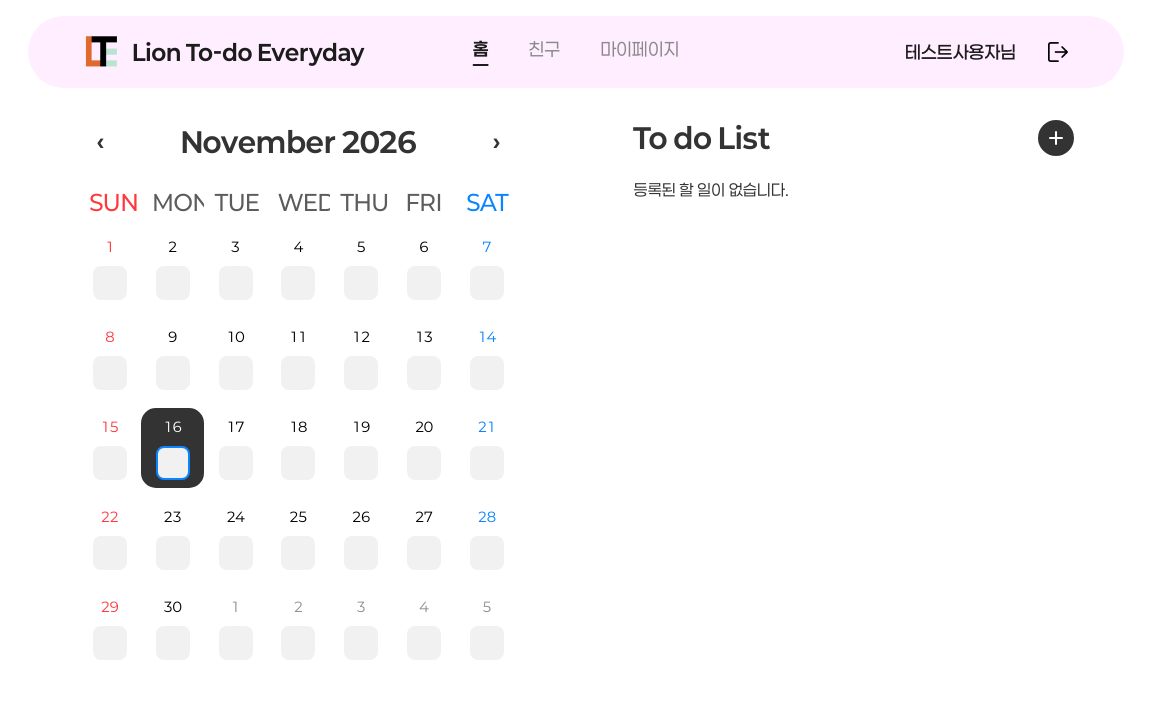
저장 실패 시 입력을 유지하고 성공한 것처럼 목록에 추가하지 않는다
Click the button named "할 일 추가" at (1056, 138), box 1038,120 -> 1074,156
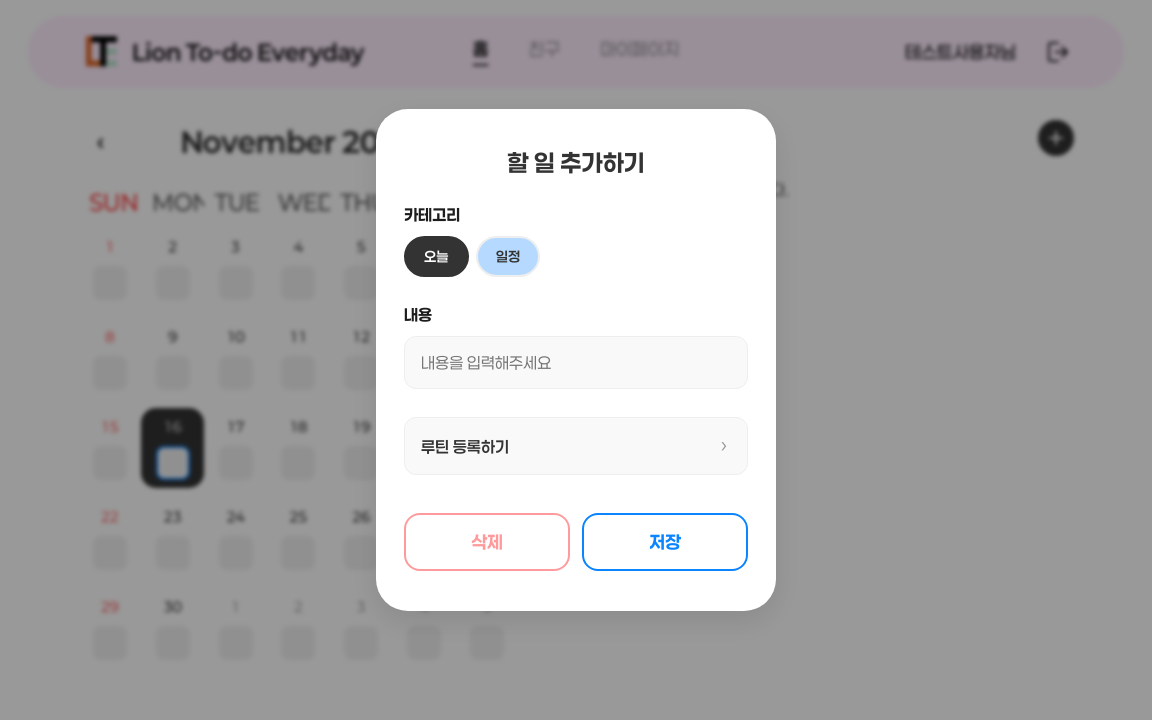
Type "실패한 기록" into the field labelled "내용" at (576, 362), box 404,336 -> 748,389
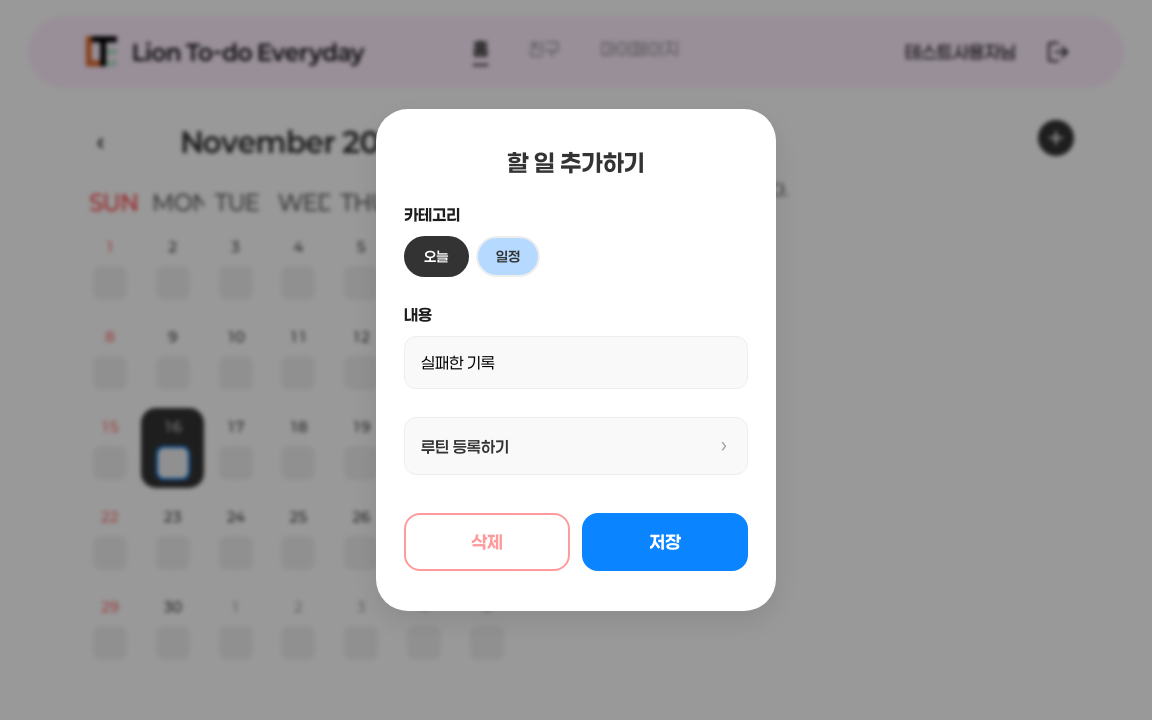
Result: the button "저장" is enabled
Click the button "저장" at (665, 542), box 582,513 -> 748,571
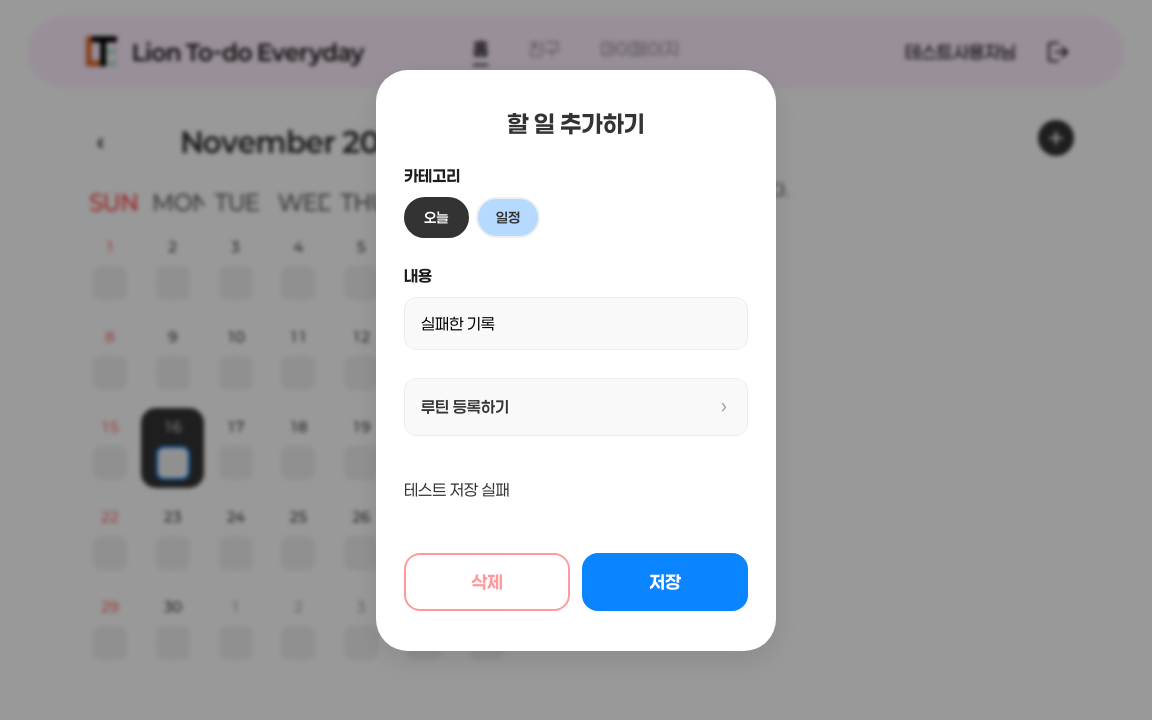
Result: the message "테스트 저장 실패" is shown at 404,480 -> 510,498
Click the button "저장" at (665, 582), box 582,552 -> 748,610
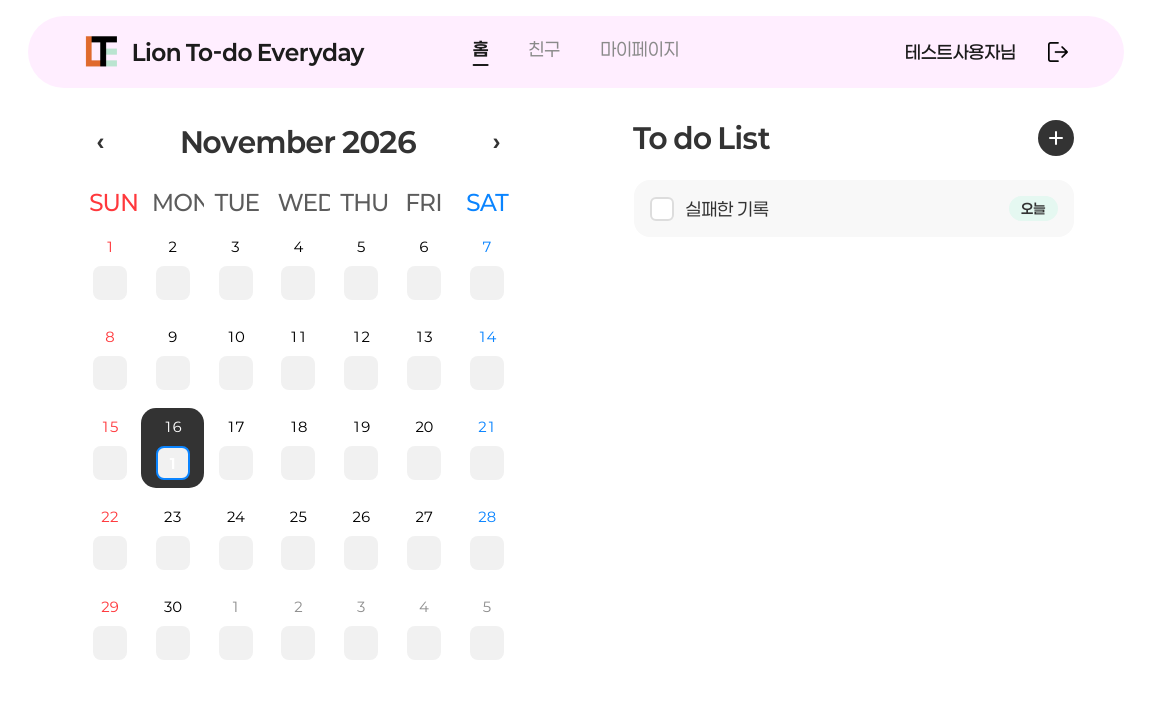
Result: the dialog is gone
